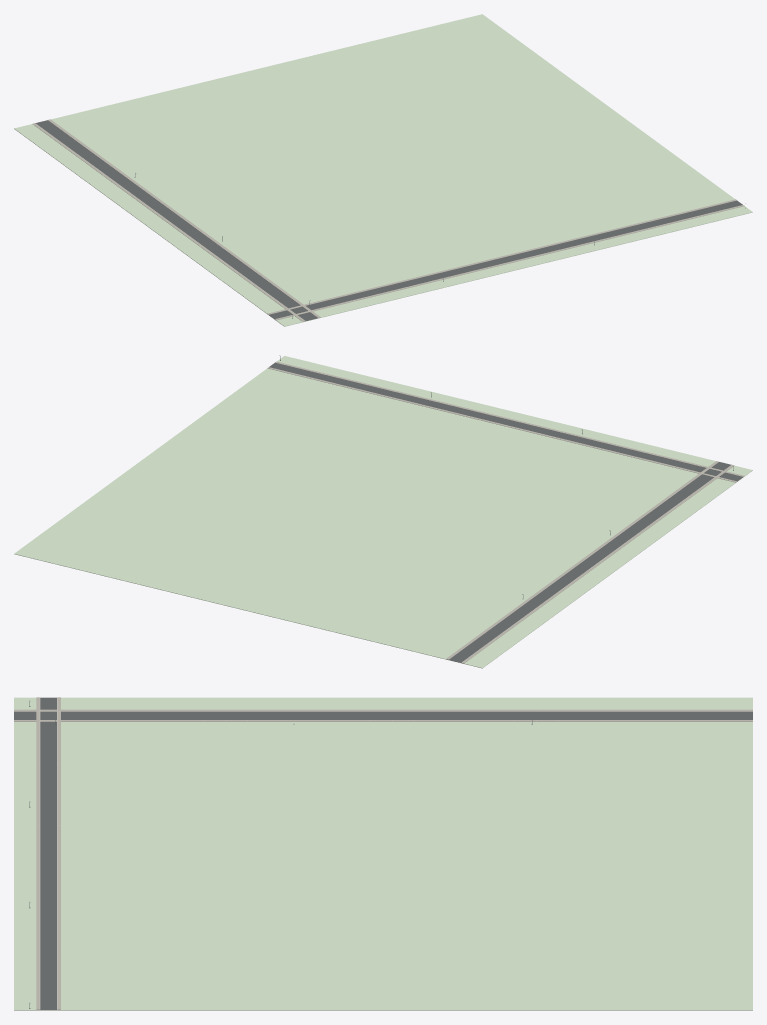
File: chunk_4_5_high.glb
3 renders of one model, top to bottom at view 1: azimuth 30°, elevation 25°; view 2: azimuth 150°, elevation 25°; view 3: azimuth 270°, elevation 25°, orthographic. The views are drawn at different scales.
Visible parts, largest first — view 1: city_grass, city_world_asphalt, city_world_sidewalk, city_curb; view 2: city_grass, city_world_asphalt, city_world_sidewalk, city_curb; view 3: city_grass, city_world_asphalt, city_world_sidewalk, city_curb.
Part boxes in pixels (x1=…): city_grass: x1=14, y1=14, x2=752, y2=326; city_world_asphalt: x1=35, y1=120, x2=742, y2=320; city_world_sidewalk: x1=32, y1=119, x2=744, y2=321; city_curb: x1=35, y1=120, x2=742, y2=320; city_grass: x1=14, y1=356, x2=752, y2=668; city_world_asphalt: x1=269, y1=363, x2=742, y2=662; city_world_sidewalk: x1=267, y1=361, x2=744, y2=663; city_curb: x1=271, y1=362, x2=743, y2=662; city_grass: x1=14, y1=697, x2=752, y2=1010; city_world_asphalt: x1=14, y1=697, x2=752, y2=1009; city_world_sidewalk: x1=14, y1=697, x2=752, y2=1009; city_curb: x1=14, y1=697, x2=752, y2=1009.
Size of the model in its own units: 512 by 5.42 by 512.
